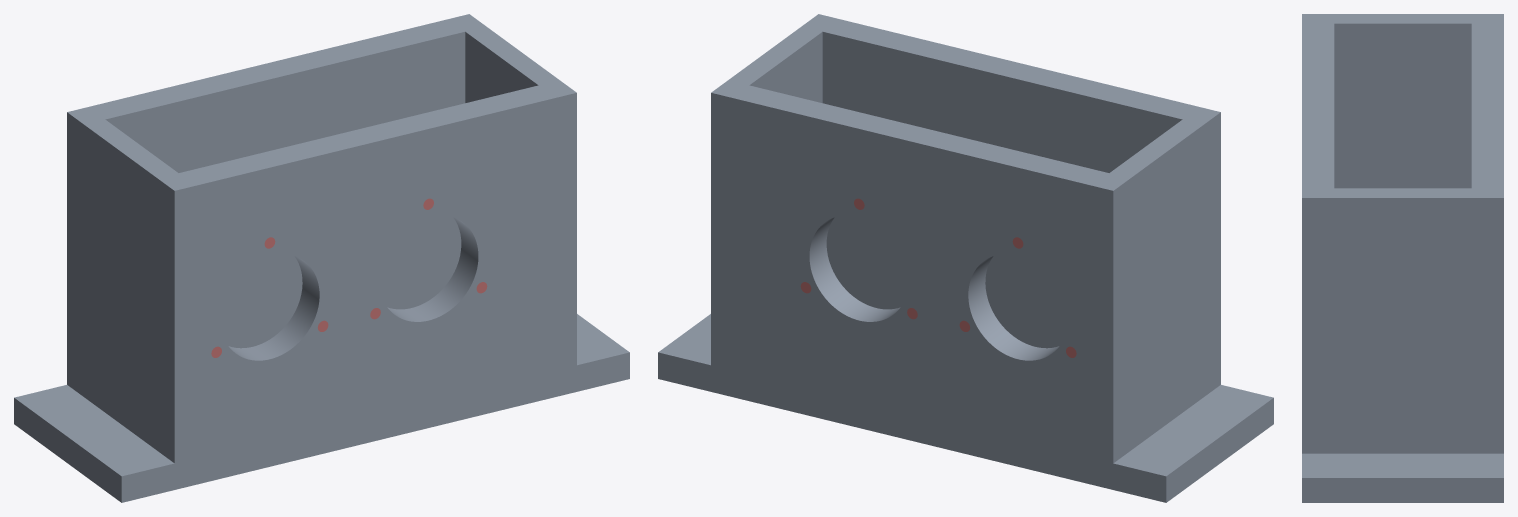
Rendered from step_04.glb.
The picture shows the model from 3 angles, left to right: view 1: azimuth 30°, elevation 25°; view 2: azimuth 150°, elevation 25°; view 3: azimuth 270°, elevation 25°; orthographic projection. The views are drawn at different scales.
Parts seen in each view (by area): view 1: part__gearbox housing; view 2: part__gearbox housing; view 3: part__gearbox housing.
Boxes of the visible parts, left/top/right/bottom form: part__gearbox housing: left=14, top=14, right=629, bottom=502; part__gearbox housing: left=658, top=14, right=1273, bottom=502; part__gearbox housing: left=1302, top=14, right=1503, bottom=502.
Size of the model in its own units: 240 by 135 by 88.
